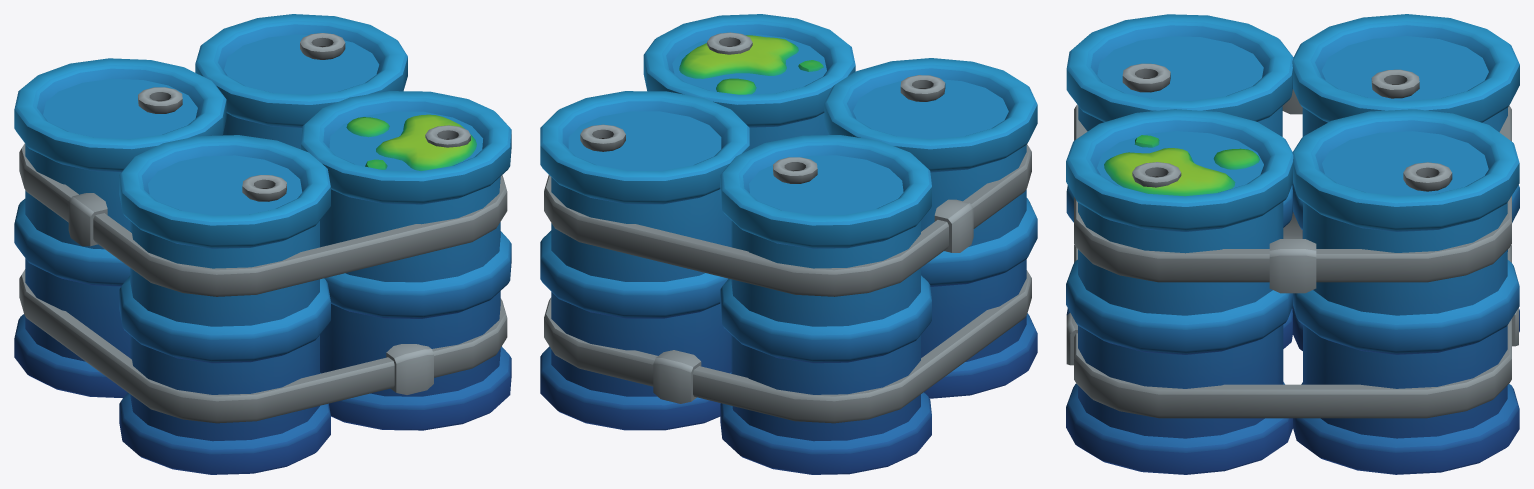
Rendered from fuel_c_barrels.glb.
3 views of the same model, side by side, from view 1: azimuth 30°, elevation 25°; view 2: azimuth 150°, elevation 25°; view 3: azimuth 270°, elevation 25° (orthographic). The views are drawn at different scales.
Parts seen in each view (by area): view 1: Fuel_C_Barrels; view 2: Fuel_C_Barrels; view 3: Fuel_C_Barrels.
Part boxes in pixels (<box>): Fuel_C_Barrels: <box>14,14,511,474</box>; Fuel_C_Barrels: <box>540,14,1037,474</box>; Fuel_C_Barrels: <box>1066,14,1519,474</box>.
Bounding box in the file's own units: 0.9087 × 0.6045 × 0.9087.
Materials: 1 (1 with a texture image).
